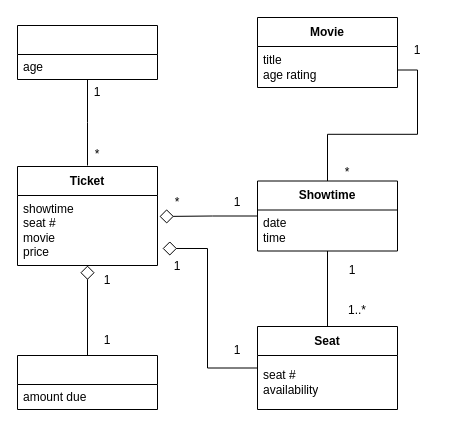
The diagram is 465 pixels wide and 427 high, and some of its shapes have lost their labels. Each missing label, with the box of its shape:
Customer: (16, 24, 158, 80)
Payment: (16, 354, 158, 410)
